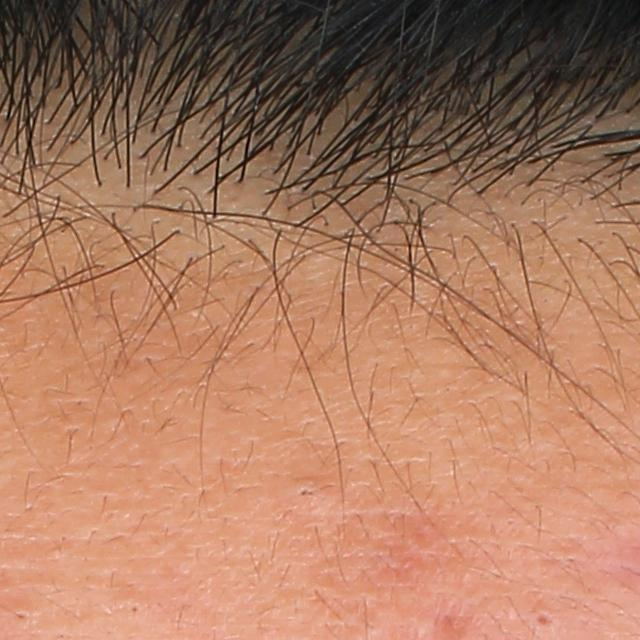comedo: (289, 480, 319, 503), (10, 606, 32, 626), (127, 602, 142, 616)
